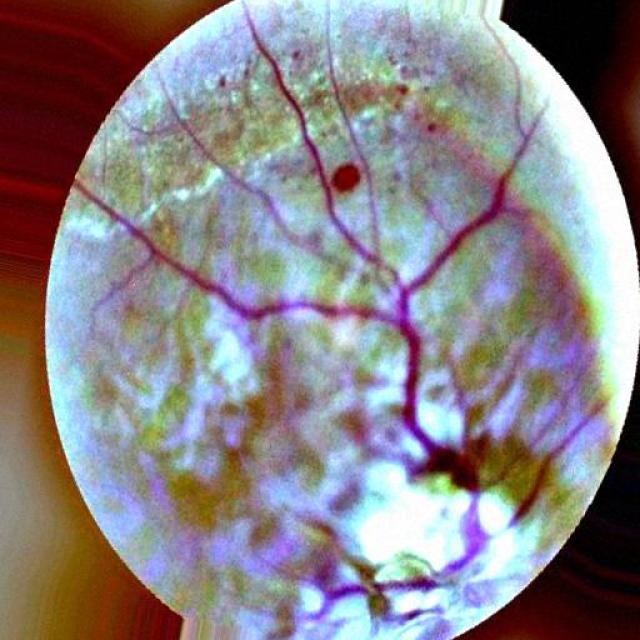Macula: (324, 161, 371, 197)
Nerves: (78, 28, 508, 596)
Optic Disk: (329, 489, 542, 639)
